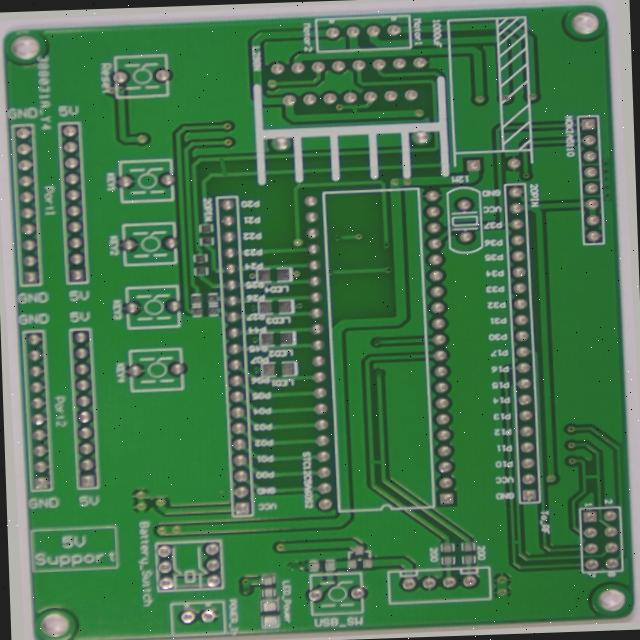short: (210, 146, 239, 178), (362, 453, 387, 475), (579, 472, 605, 492), (348, 100, 371, 118), (507, 539, 523, 556)
